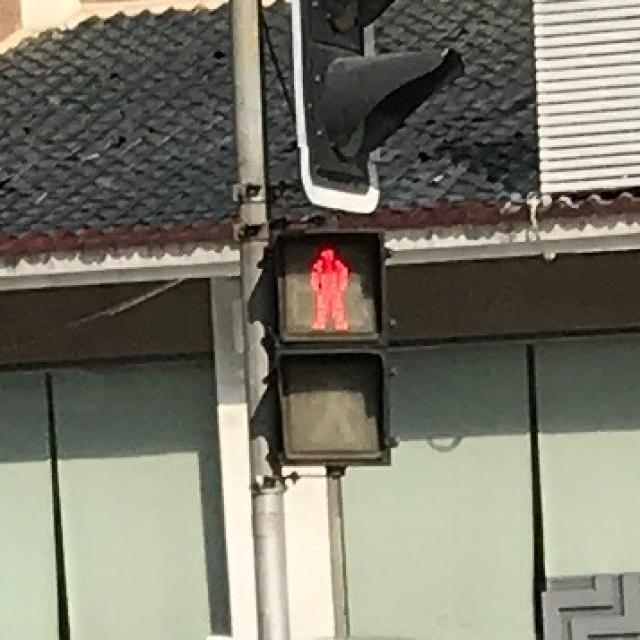red_light: (284, 235, 369, 330)
